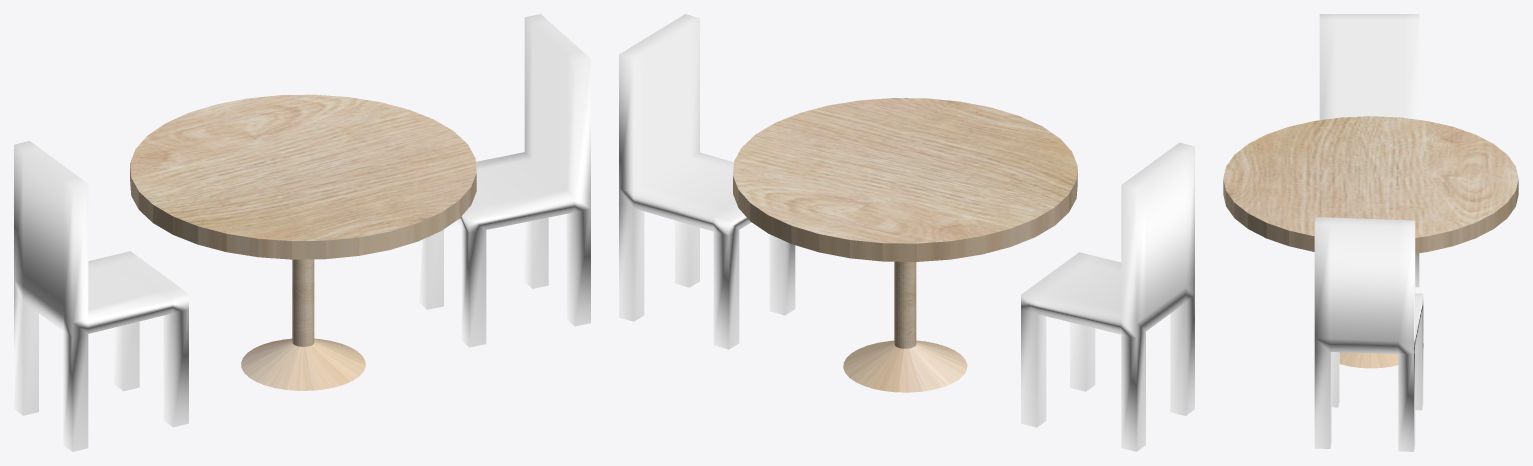
3 views of the same model, side by side, from view 1: azimuth 30°, elevation 25°; view 2: azimuth 150°, elevation 25°; view 3: azimuth 270°, elevation 25° (orthographic). The views are drawn at different scales.
Parts seen in each view (by area): view 1: Cylinder, Cube.001, Cube.002; view 2: Cylinder, Cube.001, Cube.002; view 3: Cylinder, Cube.002, Cube.001.
Boxes of the visible parts, <box> form: Cylinder: <box>130,94,476,390</box>; Cube.001: <box>14,141,188,451</box>; Cube.002: <box>419,14,590,347</box>; Cylinder: <box>733,98,1077,392</box>; Cube.001: <box>1021,142,1194,451</box>; Cube.002: <box>619,14,795,349</box>; Cylinder: <box>1223,116,1518,368</box>; Cube.002: <box>1314,217,1423,451</box>; Cube.001: <box>1319,14,1419,287</box>.
Bounding box in the file's own units: 30.76 × 15.14 × 17.68.
3 materials, 1 textured.
